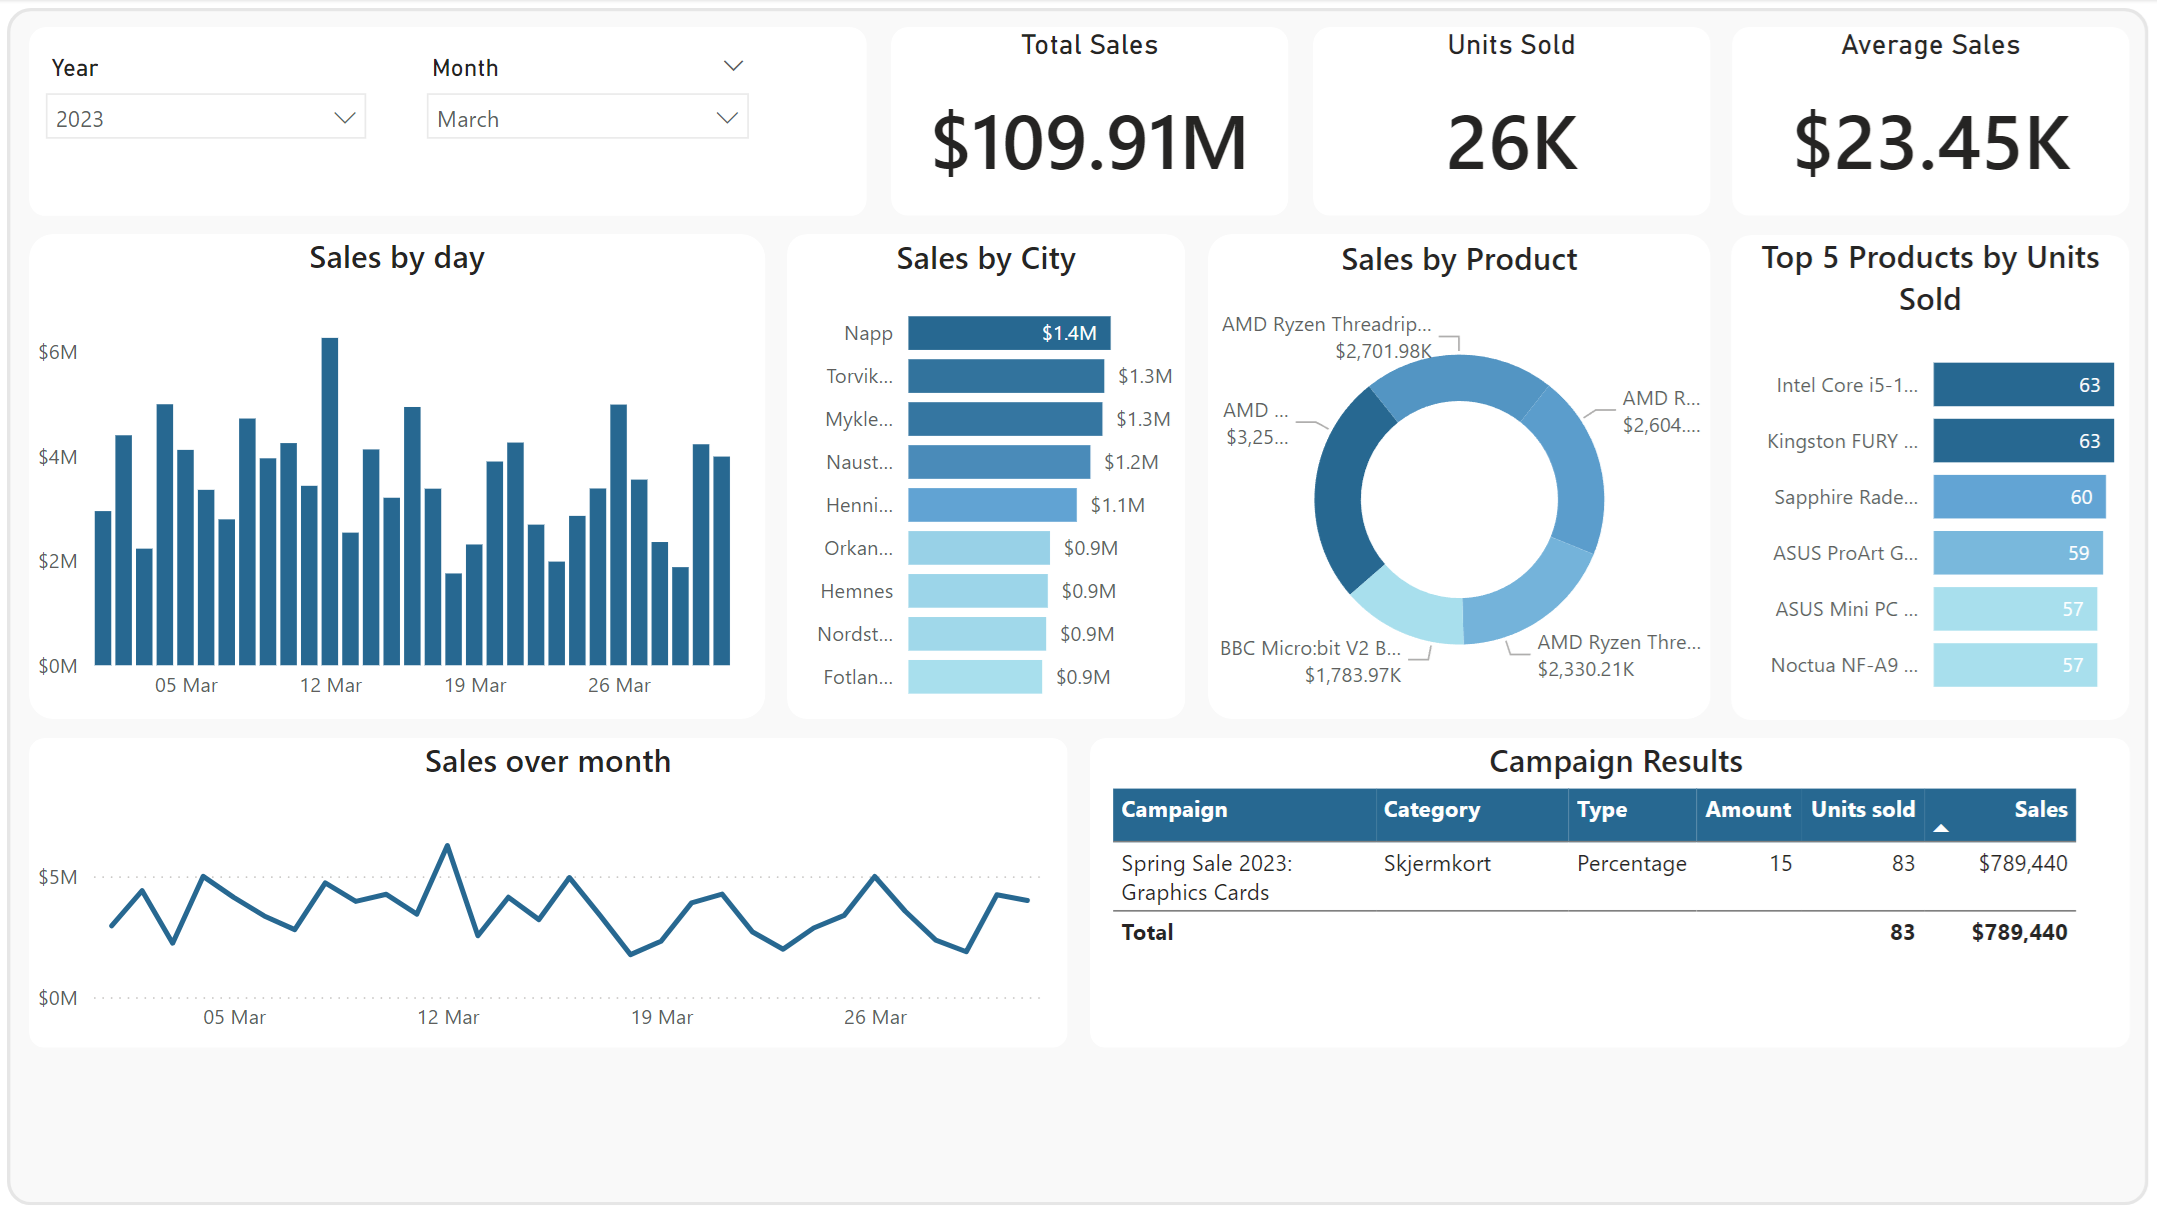

The page's visual inventory and layout, read from the dashboard file:
{"tool":"powerbi","page":{"name":"Overview","canvas":[1280,720],"ordinal":0},"visuals":[{"type":"shape","box":[4.9,5.6,1269.9,710.1],"z":0},{"type":"shape","box":[1028,16.7,235.7,112],"z":500},{"type":"shape","box":[779.4,16.7,235.7,112],"z":750},{"type":"shape","box":[528.9,16.7,235.7,112],"z":875},{"type":"card","title":"Total Sales","fields":{"Values":["Sum(public fact_product_sale.extended_sales_amount)"]},"box":[528.9,16.7,235.7,112],"z":1000},{"type":"card","title":"Units Sold","fields":{"Values":["Sum(public fact_product_sale.quantity)"]},"box":[779.4,16.7,235.7,112],"z":2000},{"type":"card","title":"Average Sales","fields":{"Values":["Avg(public fact_product_sale.extended_sales_amount)"]},"box":[1028,16.7,235.7,112],"z":3000},{"type":"shape","box":[17.8,16.5,496.9,112.3],"z":3500},{"type":"slicer","fields":{"Values":["public dim_date.date.Variation.Date Hierarchy.Year"]},"box":[17.9,27.8,210.3,89.7],"z":4000},{"type":"slicer","fields":{"Values":["public dim_date.date.Variation.Date Hierarchy.Month"]},"box":[243.7,27.8,210.9,89.7],"z":5000},{"type":"shape","box":[467.6,139.2,236.3,287.6],"z":6000},{"type":"clusteredBarChart","title":"Sales by City","fields":{"Category":["public dim_location.city_name"],"Y":["Sum(public fact_product_sale.extended_sales_amount)"]},"box":[467.6,139.8,236.3,287.6],"z":7000},{"type":"shape","box":[1027.4,139.8,236.3,287.6],"z":8000},{"type":"shape","box":[716.9,139.2,298.1,287.6],"z":9000},{"type":"donutChart","title":"Sales by Product","fields":{"Category":["public dim_product.product_name"],"Y":["Sum(public fact_product_sale.extended_sales_amount)"]},"box":[716.9,140.4,298.1,287.6],"z":10000},{"type":"shape","box":[17.9,139.2,436.7,287.6],"z":11000},{"type":"clusteredBarChart","title":"Top 5 Products by Units Sold","fields":{"Category":["public dim_product.product_name"],"Y":["Sum(public fact_product_sale.quantity)"]},"box":[1031.1,139.2,228.2,287.6],"z":12000},{"type":"clusteredColumnChart","title":"Sales by day","fields":{"Y":["Sum(public fact_product_sale.extended_sales_amount)"],"Category":["public dim_date.date"]},"box":[17.9,139.2,436.7,285.8],"z":13000},{"type":"shape","box":[17.9,438.6,616.1,183.7],"z":14000},{"type":"shape","box":[647,438.6,616.7,183.7],"z":15000},{"type":"lineChart","title":"Sales over month","fields":{"Y":["Sum(public fact_product_sale.extended_sales_amount)"],"Category":["public dim_date.date"]},"box":[17.9,438.6,616.1,183.7],"z":16000},{"type":"tableEx","title":"Campaign Results","fields":{"Values":["public dim_discount.discount_name","public dim_product.product_category","public dim_discount.discount_type","public dim_discount.discount_amount","Sum(public fact_product_sale.quantity)","Sum(public fact_product_sale.extended_sales_amount)"]},"box":[655.1,438.6,608.7,183.7],"z":17000}]}

Visuals, with their boxes in screenshot pixels (x1, y1, x2, y2), scaled from the page's 1280x720 canvas onto the 2157x1212 screenshot:
shape: bbox=[8, 9, 2148, 1205]
shape: bbox=[1732, 28, 2130, 217]
shape: bbox=[1313, 28, 1711, 217]
shape: bbox=[891, 28, 1288, 217]
"Total Sales" card: bbox=[891, 28, 1288, 217]
"Units Sold" card: bbox=[1313, 28, 1711, 217]
"Average Sales" card: bbox=[1732, 28, 2130, 217]
shape: bbox=[30, 28, 867, 217]
slicer - public dim_date.date.Variation.Date Hierarchy.Year: bbox=[30, 47, 385, 198]
slicer - public dim_date.date.Variation.Date Hierarchy.Month: bbox=[411, 47, 766, 198]
shape: bbox=[788, 234, 1186, 718]
"Sales by City" clusteredBarChart: bbox=[788, 235, 1186, 719]
shape: bbox=[1731, 235, 2130, 719]
shape: bbox=[1208, 234, 1710, 718]
"Sales by Product" donutChart: bbox=[1208, 236, 1710, 720]
shape: bbox=[30, 234, 766, 718]
"Top 5 Products by Units Sold" clusteredBarChart: bbox=[1738, 234, 2122, 718]
"Sales by day" clusteredColumnChart: bbox=[30, 234, 766, 715]
shape: bbox=[30, 738, 1068, 1048]
shape: bbox=[1090, 738, 2130, 1048]
"Sales over month" lineChart: bbox=[30, 738, 1068, 1048]
"Campaign Results" tableEx: bbox=[1104, 738, 2130, 1048]
